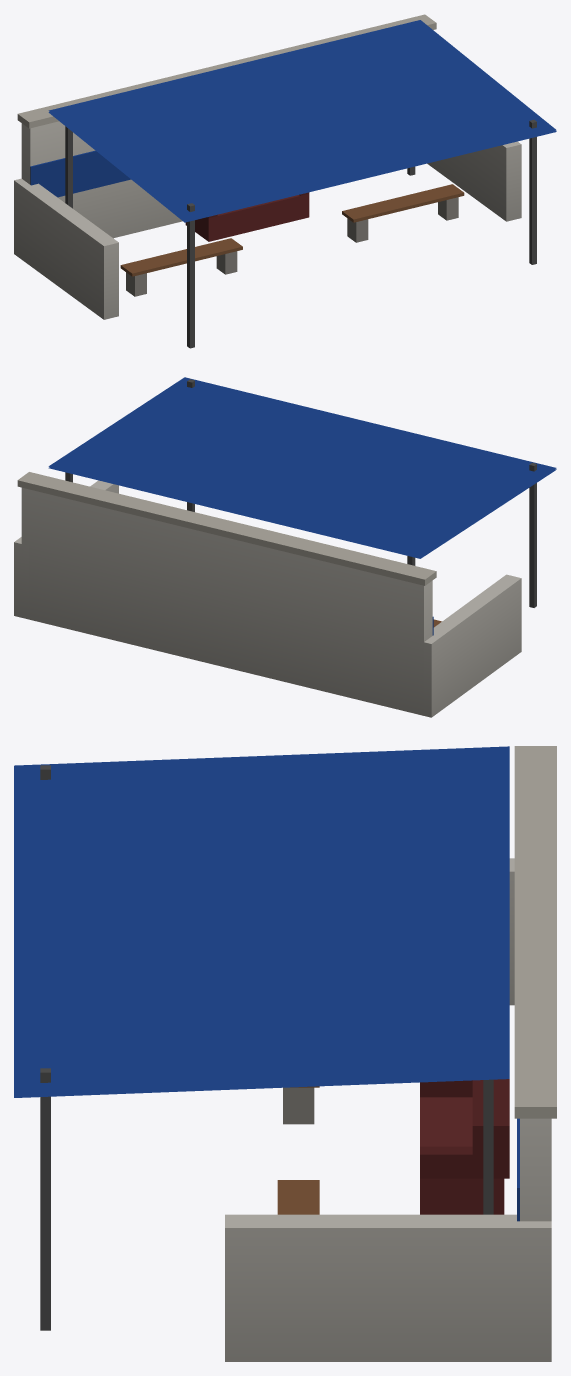
Rendered from ub_base_blue_lod1.glb.
3 views of the same model, one above another, from view 1: azimuth 30°, elevation 25°; view 2: azimuth 150°, elevation 25°; view 3: azimuth 270°, elevation 25° (orthographic). The views are drawn at different scales.
Parts seen in each view (by area): view 1: ub_base_blue_lod1; view 2: ub_base_blue_lod1; view 3: ub_base_blue_lod1.
Part boxes in pixels (<box>): ub_base_blue_lod1: <box>14,14,556,348</box>; ub_base_blue_lod1: <box>14,377,556,717</box>; ub_base_blue_lod1: <box>14,746,556,1361</box>.
Size of the model in its own units: 8.3 by 2.78 by 5.15.
